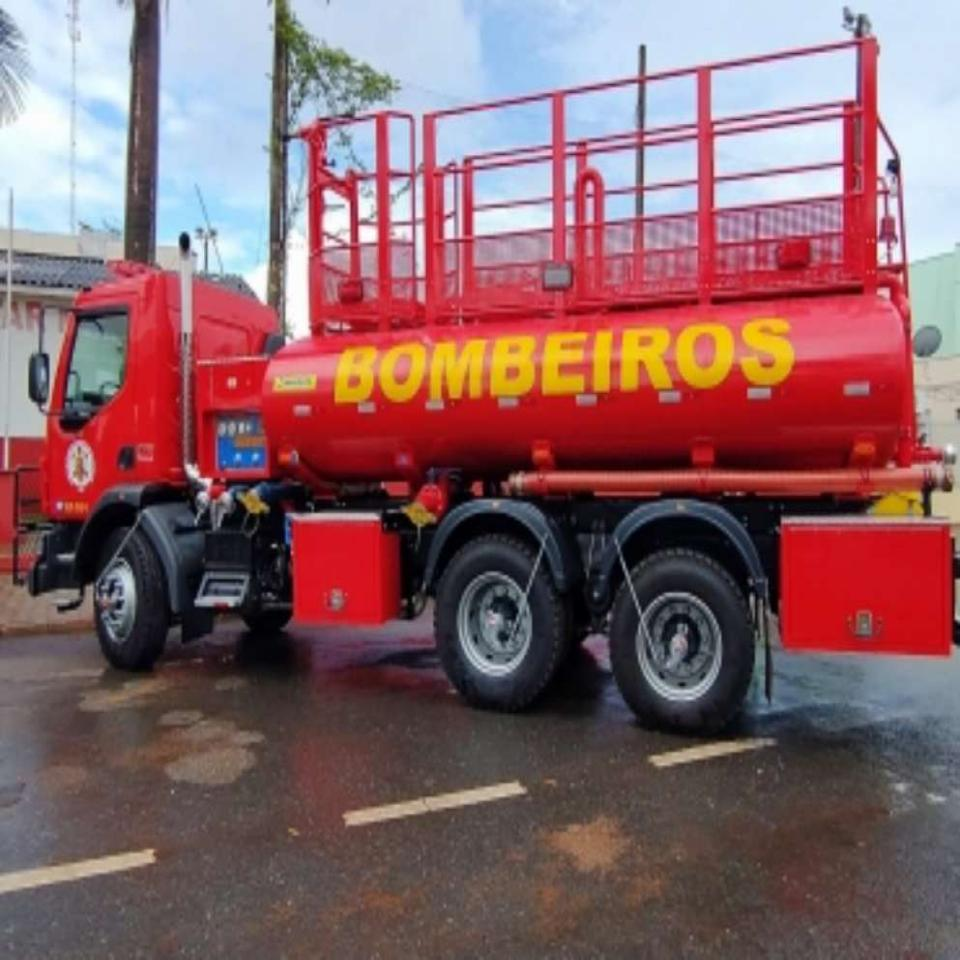viatura: (7, 6, 960, 733)
